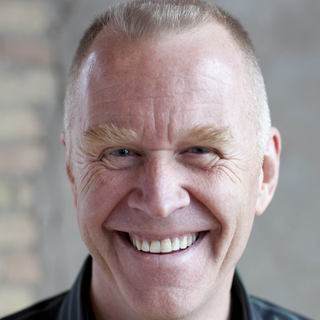eye: (174, 139, 225, 165), (96, 142, 146, 165)
